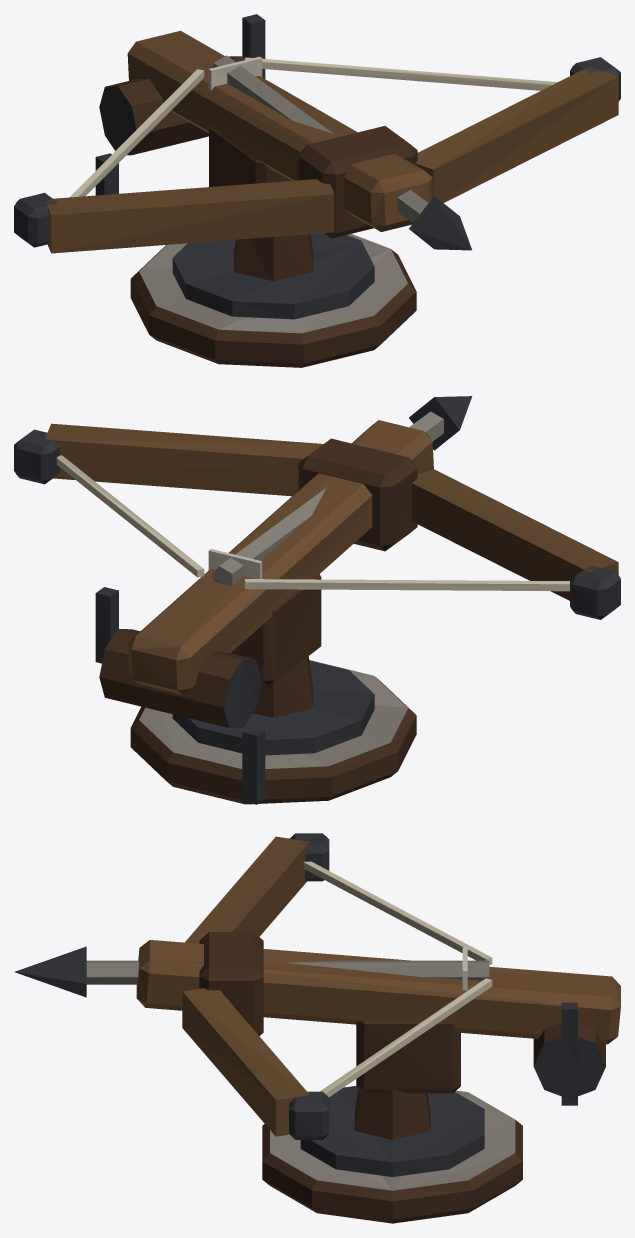
File: perch_ballista_head.glb
The picture shows the model from 3 angles, top to bottom: view 1: azimuth 30°, elevation 25°; view 2: azimuth 150°, elevation 25°; view 3: azimuth 270°, elevation 25°; orthographic projection. The views are drawn at different scales.
Visible parts, largest first — view 1: perch_ballista_head; view 2: perch_ballista_head; view 3: perch_ballista_head.
Boxes of the visible parts, x1,y1,x2,y2 form: perch_ballista_head: [14, 14, 620, 367]; perch_ballista_head: [14, 396, 620, 804]; perch_ballista_head: [14, 833, 620, 1223].
Bounding box in the file's own units: 0.809 × 0.305 × 0.7535.
